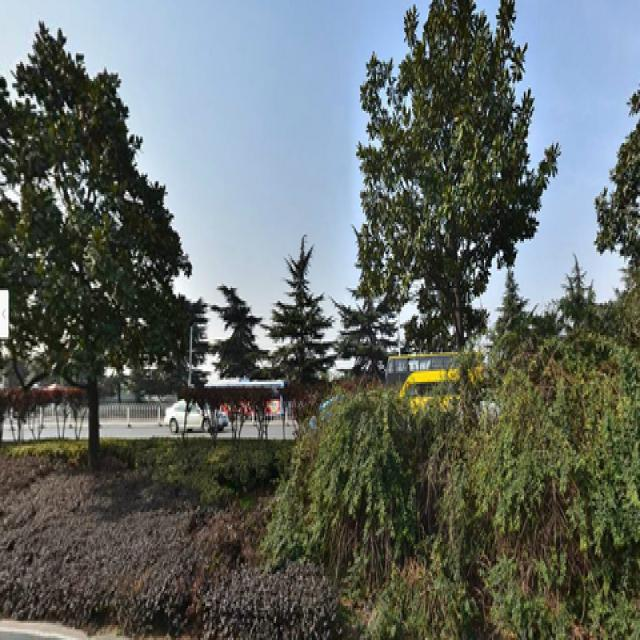cedr: (271, 252, 328, 384)
magn: (5, 30, 156, 456), (371, 13, 508, 343)
